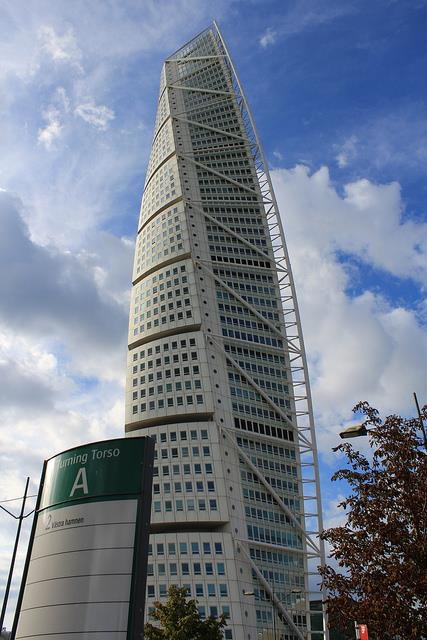turinng_torso: (119, 18, 330, 636)
